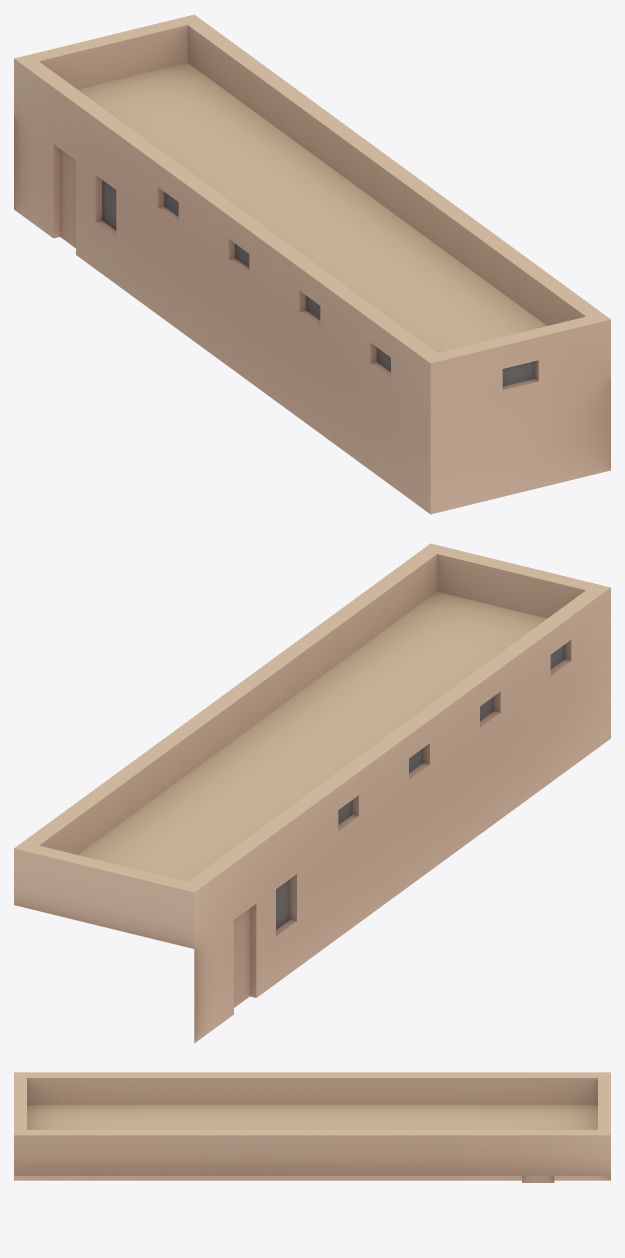
3 renders of one model, top to bottom at view 1: azimuth 30°, elevation 25°; view 2: azimuth 150°, elevation 25°; view 3: azimuth 270°, elevation 25°, orthographic. The views are drawn at different scales.
Parts seen in each view (by area): view 1: atturaifworldheritagesite70030076676985436; view 2: atturaifworldheritagesite70030076676985436; view 3: atturaifworldheritagesite70030076676985436.
Boxes of the visible parts, x1,y1,x2,y2 form: atturaifworldheritagesite70030076676985436: (14, 14, 610, 514); atturaifworldheritagesite70030076676985436: (14, 543, 610, 1043); atturaifworldheritagesite70030076676985436: (14, 1072, 610, 1182).
Size of the model in its own units: 4 by 3.2 by 16.
1 material, 1 textured.
